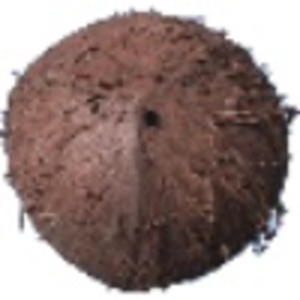coco: (1, 10, 300, 294)
